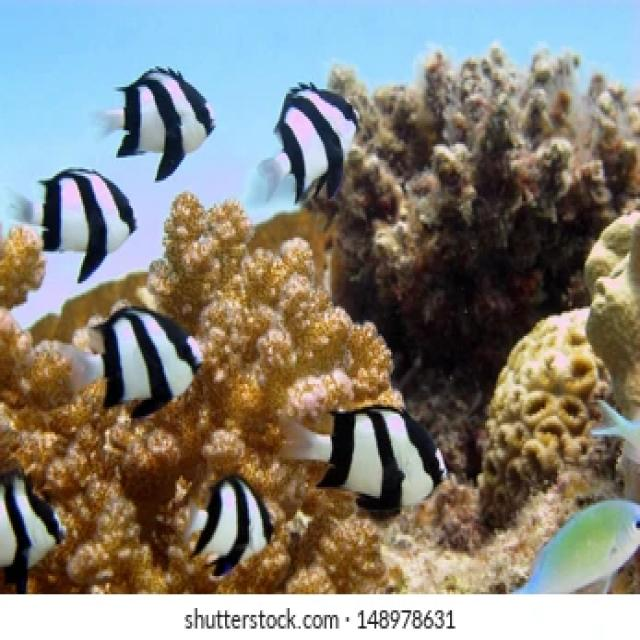Three_striped DasmselFish: (278, 401, 449, 512), (54, 305, 205, 421), (8, 166, 139, 285), (96, 63, 215, 187), (258, 80, 358, 212), (183, 476, 273, 579), (0, 474, 66, 570)
